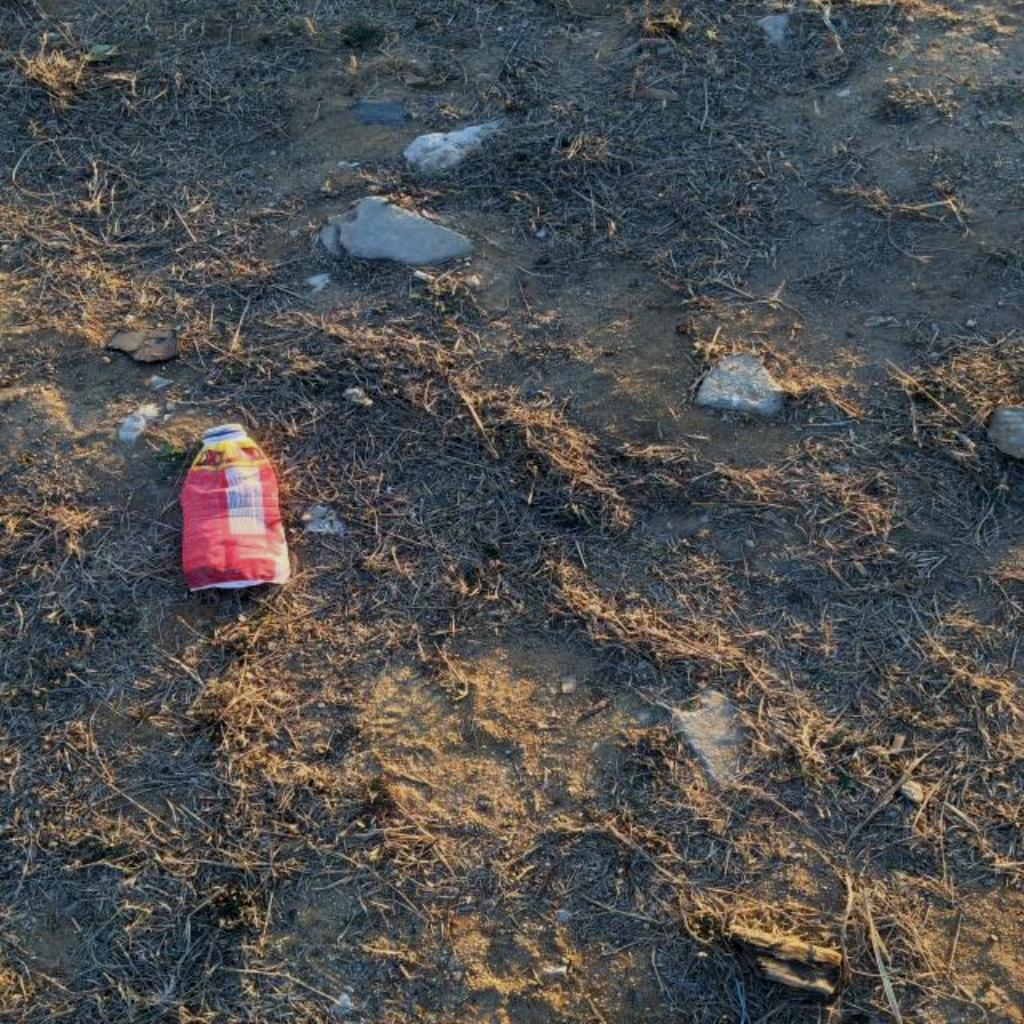garbage: (178, 425, 284, 591)
